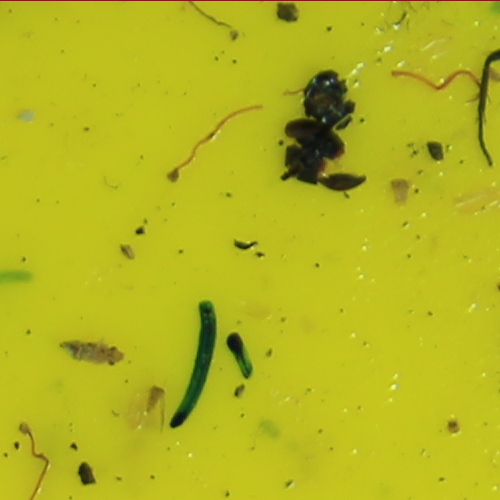Glycaspis: (61, 332, 128, 367)
